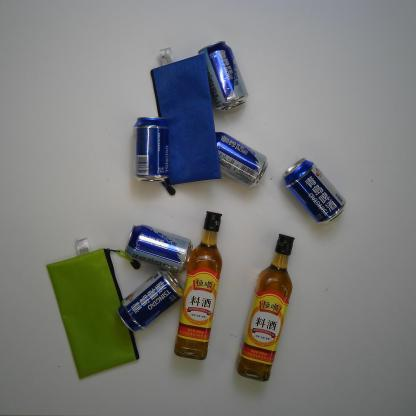Alcohol: (281, 156, 347, 226), (116, 268, 187, 332), (198, 40, 250, 112), (124, 224, 193, 274), (214, 130, 270, 190), (132, 114, 172, 183)
Seasoner: (234, 232, 297, 383), (174, 208, 224, 362)
Stationery: (46, 234, 146, 381), (148, 46, 222, 195)
